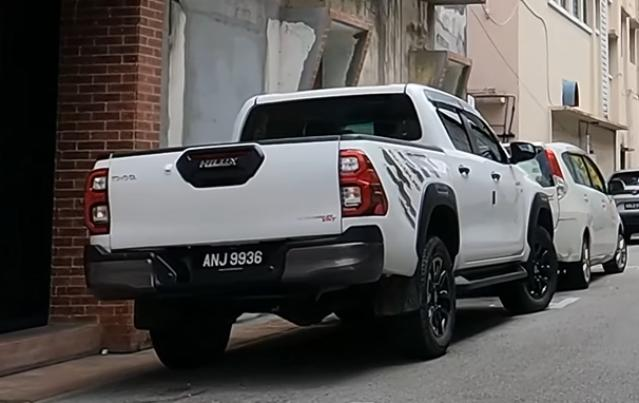License_Plate: (201, 249, 266, 272)
car: (84, 82, 561, 370), (503, 142, 629, 290)
